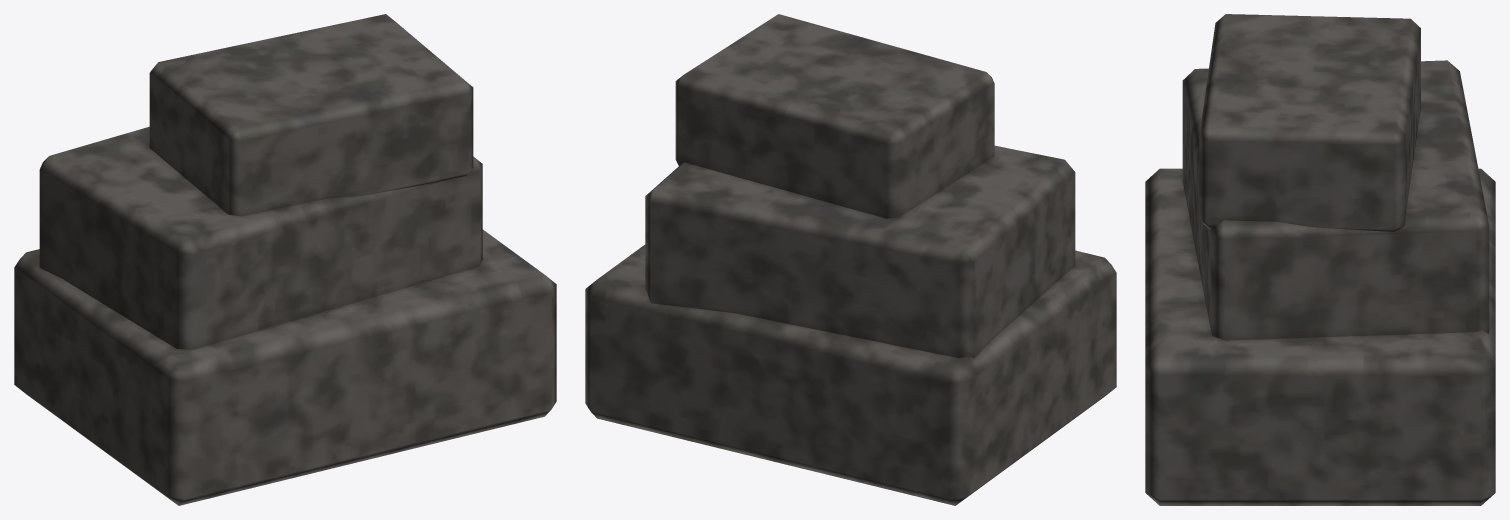
The model's file is cliff_slab.glb.
The picture shows the model from 3 angles, left to right: view 1: azimuth 30°, elevation 25°; view 2: azimuth 150°, elevation 25°; view 3: azimuth 270°, elevation 25°; orthographic projection. The views are drawn at different scales.
Visible parts, largest first — view 1: CliffSlab; view 2: CliffSlab; view 3: CliffSlab.
Part boxes in pixels (left/top/right/bottom): CliffSlab: left=14, top=14, right=556, bottom=505; CliffSlab: left=585, top=14, right=1116, bottom=505; CliffSlab: left=1145, top=14, right=1495, bottom=505.
Bounding box in the file's own units: 4.6 × 3.75 × 3.4.
Materials: 1 (1 with a texture image).
